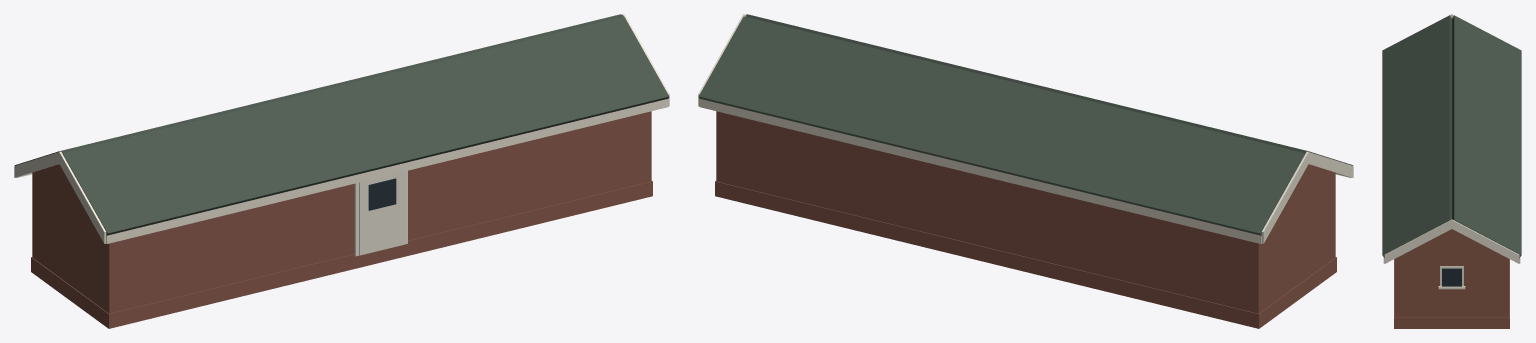
The model's file is shed-0001.glb.
3 views of the same model, side by side, from view 1: azimuth 30°, elevation 25°; view 2: azimuth 150°, elevation 25°; view 3: azimuth 270°, elevation 25° (orthographic). The views are drawn at different scales.
Visible parts, largest first — view 1: kit-shed-0001; view 2: kit-shed-0001; view 3: kit-shed-0001.
Part boxes in pixels (x1=…): kit-shed-0001: x1=14, y1=14, x2=669, y2=328; kit-shed-0001: x1=698, y1=14, x2=1353, y2=328; kit-shed-0001: x1=1382, y1=14, x2=1521, y2=328.
Size of the model in its own units: 14.84 by 3.79 by 4.24.
